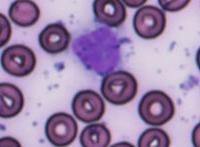L: (68, 21, 127, 74)
